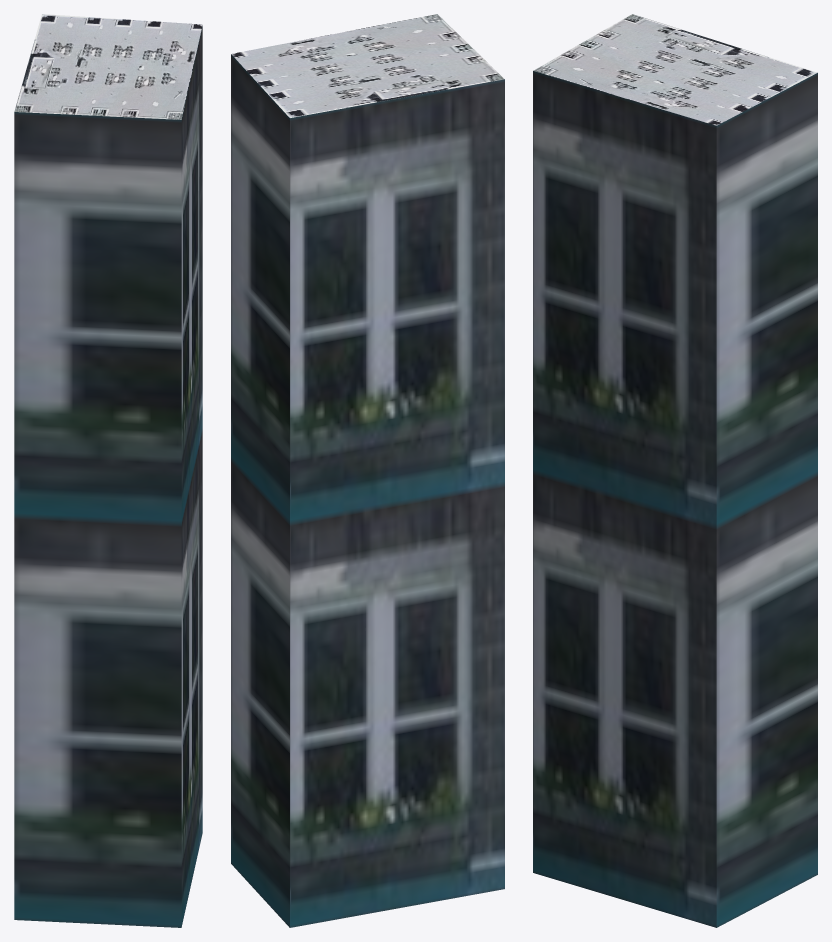
File: ResTex__1998.fbx
3 renders of one model, left to right at view 1: azimuth 30°, elevation 25°; view 2: azimuth 150°, elevation 25°; view 3: azimuth 270°, elevation 25°, orthographic.
Parts seen in each view (by area): view 1: CityEngineMaterial_11_m, CityEngineMaterial_4_m; view 2: CityEngineMaterial_11_m, CityEngineMaterial_4_m; view 3: CityEngineMaterial_11_m, CityEngineMaterial_4_m.
Part boxes in pixels (x1,y1,x2,y2): CityEngineMaterial_11_m: [14, 26, 202, 927]; CityEngineMaterial_4_m: [14, 14, 202, 119]; CityEngineMaterial_11_m: [231, 54, 504, 927]; CityEngineMaterial_4_m: [231, 14, 504, 117]; CityEngineMaterial_11_m: [533, 71, 817, 927]; CityEngineMaterial_4_m: [533, 14, 817, 125].
Size of the model in its own units: 1.79 by 6 by 1.93.
2 materials, 2 textured.
